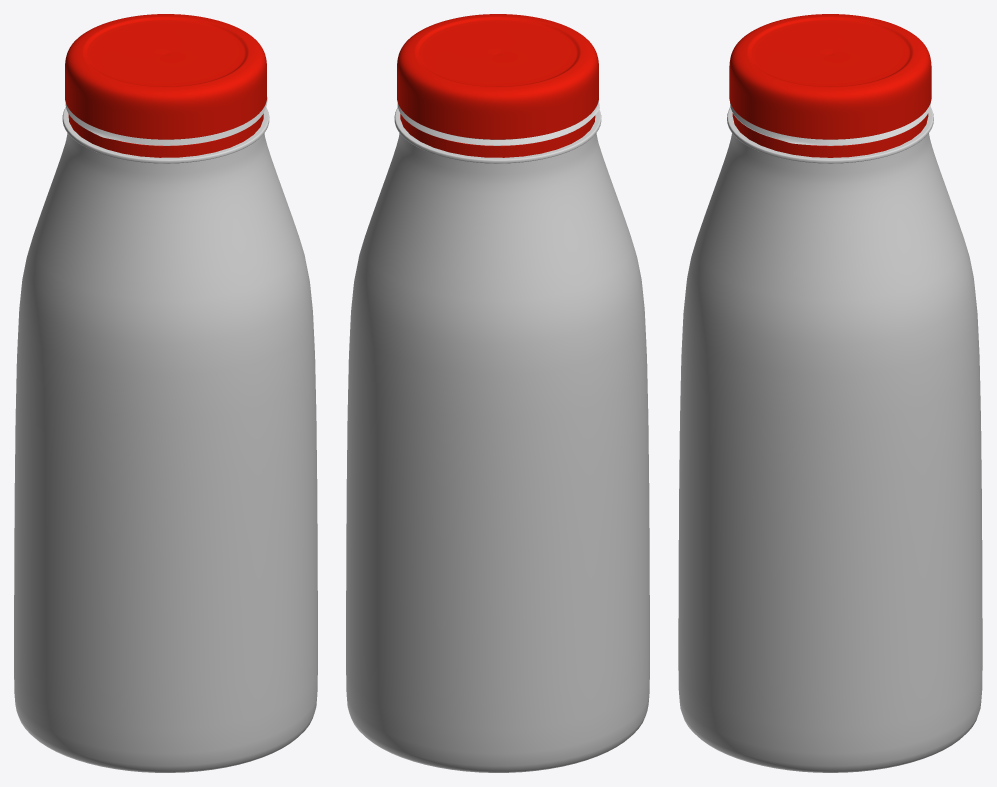
The model's file is bottle.fbx.
3 views of the same model, side by side, from view 1: azimuth 30°, elevation 25°; view 2: azimuth 150°, elevation 25°; view 3: azimuth 270°, elevation 25° (orthographic).
Visible parts, largest first — view 1: Cylinder, Cylinder.003, Cylinder.004, Cylinder.002, Cylinder.001; view 2: Cylinder, Cylinder.003, Cylinder.004, Cylinder.002, Cylinder.001; view 3: Cylinder, Cylinder.003, Cylinder.004, Cylinder.002, Cylinder.001.
Boxes of the visible parts, left/top/right/bottom form: Cylinder: left=14, top=133, right=317, bottom=772; Cylinder.003: left=65, top=14, right=266, bottom=139; Cylinder.004: left=68, top=113, right=263, bottom=157; Cylinder.002: left=62, top=107, right=269, bottom=163; Cylinder.001: left=65, top=96, right=267, bottom=145; Cylinder: left=346, top=133, right=649, bottom=772; Cylinder.003: left=397, top=14, right=598, bottom=139; Cylinder.004: left=400, top=114, right=595, bottom=157; Cylinder.002: left=394, top=107, right=601, bottom=163; Cylinder.001: left=397, top=101, right=599, bottom=145; Cylinder: left=678, top=133, right=982, bottom=772; Cylinder.003: left=729, top=14, right=931, bottom=139; Cylinder.004: left=732, top=113, right=928, bottom=157; Cylinder.002: left=727, top=107, right=933, bottom=163; Cylinder.001: left=730, top=102, right=930, bottom=145.
Bounding box in the file's own units: 314 × 753 × 314.
